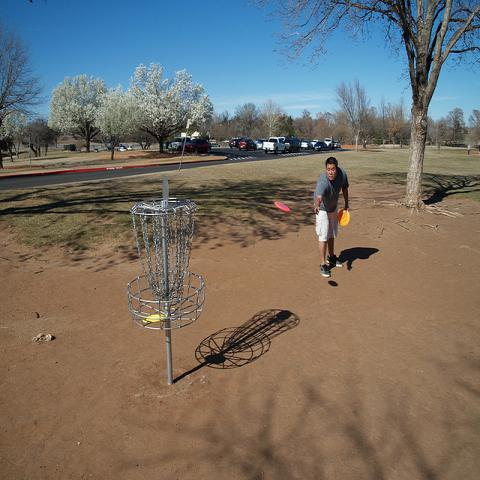car: (184, 138, 212, 154), (168, 137, 191, 150), (238, 139, 257, 151), (314, 141, 330, 151), (255, 138, 268, 150), (324, 138, 334, 150), (301, 140, 313, 150), (229, 139, 241, 148), (334, 141, 341, 148)
truck: (263, 136, 287, 154)
